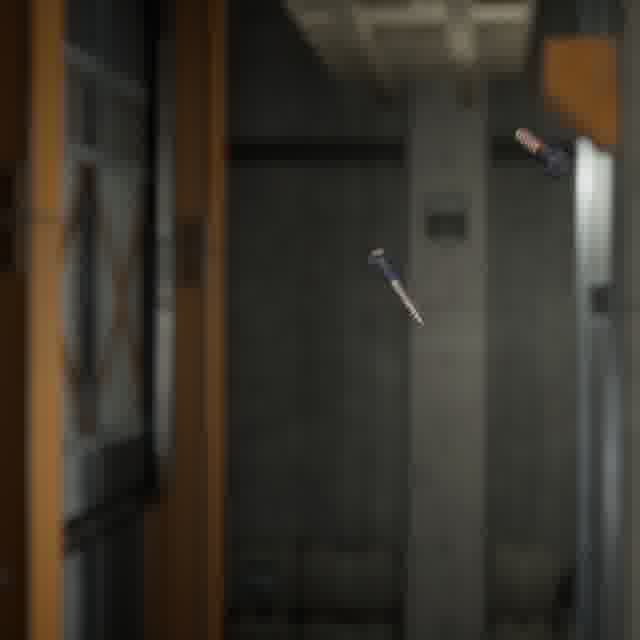bolt: (362, 243, 429, 330), (511, 123, 576, 184)
